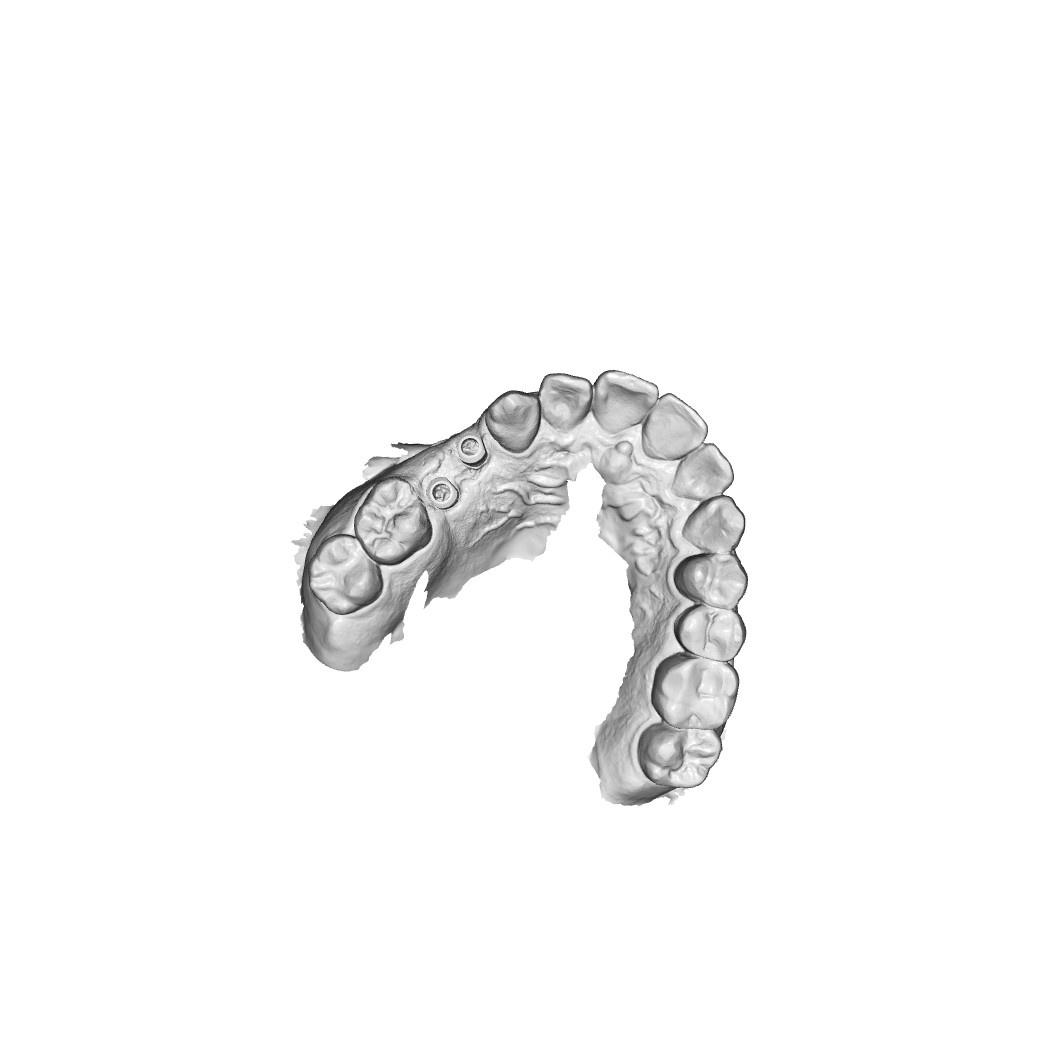canine: (486, 392, 547, 455), (685, 500, 745, 551)
implant: (424, 474, 458, 512), (456, 431, 491, 465)
incisor: (639, 394, 707, 463), (595, 369, 655, 431), (677, 448, 731, 502), (542, 376, 593, 429)
molar: (657, 658, 742, 730), (307, 537, 380, 619), (638, 722, 723, 791), (356, 482, 431, 554)
premolar: (683, 605, 742, 664), (686, 554, 745, 607)
